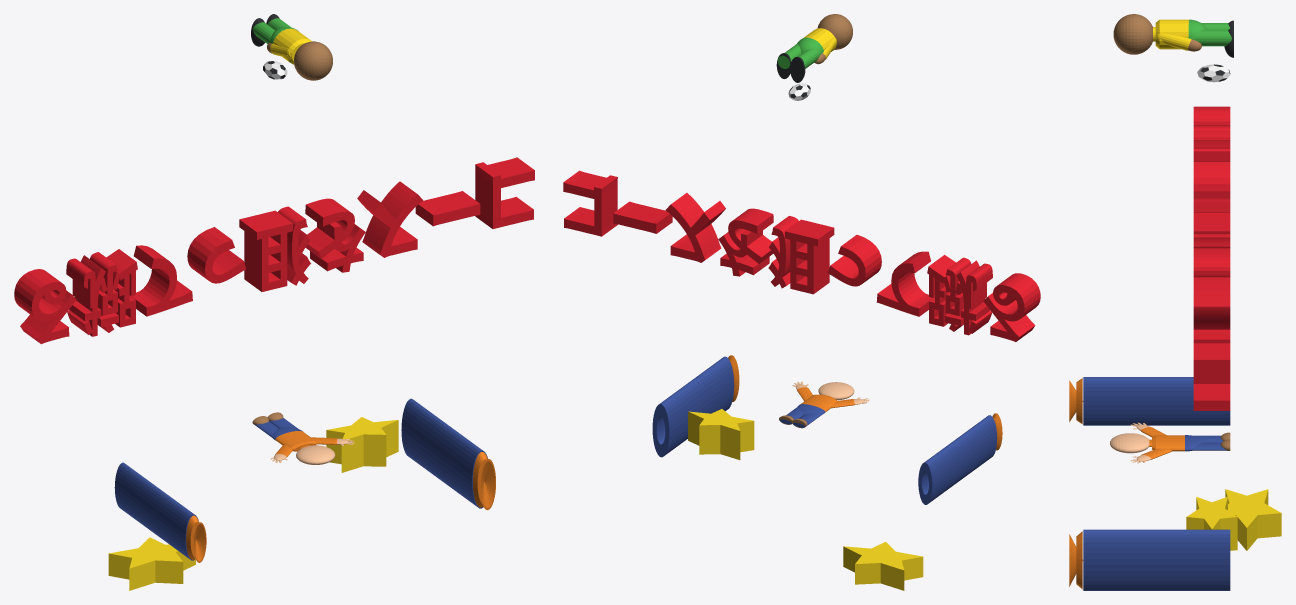
The model's file is tinker.obj.
3 renders of one model, left to right at view 1: azimuth 30°, elevation 25°; view 2: azimuth 150°, elevation 25°; view 3: azimuth 270°, elevation 25°, orthographic. The views are drawn at different scales.
Parts seen in each view (by area): view 1: group_0_15277357, group_0_3888547, group_0_16768282, group_0_16089887, group_0_11107152, group_0_16500122; view 2: group_0_15277357, group_0_3888547, group_0_16768282, group_0_16089887, group_0_11107152, group_0_4634441, group_0_16500122, group_0_2829873; view 3: group_0_3888547, group_0_15277357, group_0_16768282, group_0_16089887, group_0_11107152, group_0_4634441, group_0_16500122, group_0_16448250, group_0_2829873.
Part boxes in pixels (x1,y1,x2,y2): group_0_15277357: (14, 157, 534, 344); group_0_3888547: (114, 398, 487, 560); group_0_16768282: (108, 28, 398, 590); group_0_16089887: (186, 431, 495, 562); group_0_11107152: (252, 41, 332, 424); group_0_16500122: (270, 438, 354, 464); group_0_15277357: (563, 170, 1040, 341); group_0_3888547: (652, 356, 997, 504); group_0_16768282: (688, 28, 923, 590); group_0_16089887: (728, 355, 1002, 450); group_0_11107152: (779, 14, 852, 428); group_0_4634441: (777, 37, 823, 68); group_0_16500122: (792, 381, 869, 404); group_0_2829873: (776, 53, 810, 100); group_0_3888547: (1083, 377, 1230, 590); group_0_15277357: (1193, 106, 1230, 410); group_0_16768282: (1153, 19, 1281, 550); group_0_16089887: (1069, 378, 1184, 589); group_0_11107152: (1113, 14, 1230, 450); group_0_4634441: (1188, 19, 1231, 46); group_0_16500122: (1110, 422, 1151, 463); group_0_16448250: (1197, 64, 1230, 82); group_0_2829873: (1200, 20, 1233, 81).
Bounding box in the file's own units: 165 × 171 × 58.02.
